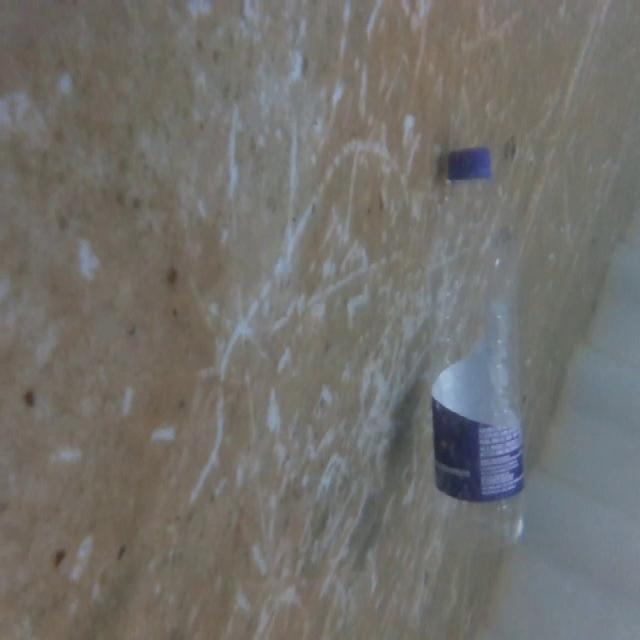plastic bottle: (416, 142, 535, 553)
